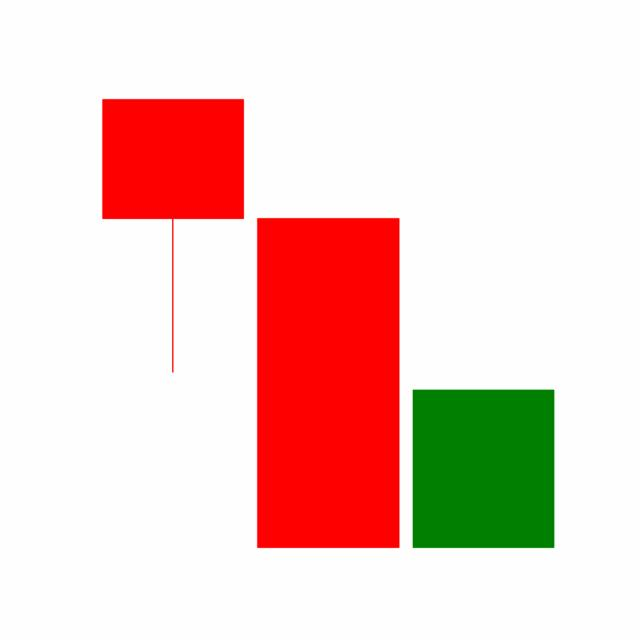Marubozu: (405, 388, 561, 549)
